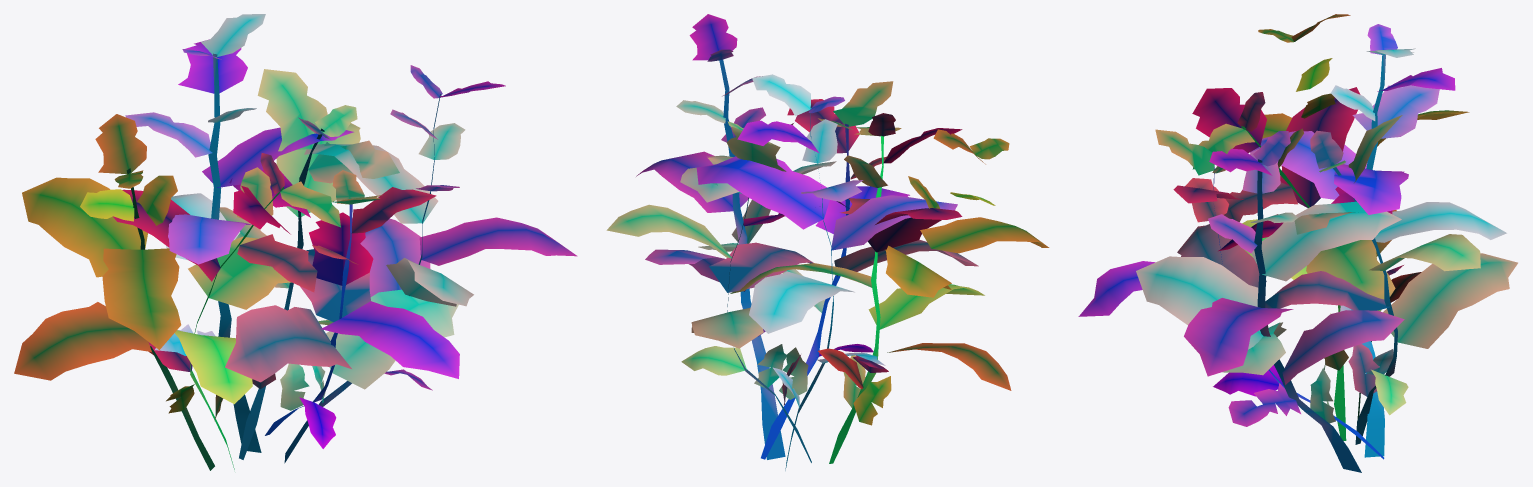
Rendered from Black_Locust_wdvhberja_Mid_wdvhberja_VarD_LOD2.fbx.
3 views of the same model, side by side, from view 1: azimuth 30°, elevation 25°; view 2: azimuth 150°, elevation 25°; view 3: azimuth 270°, elevation 25° (orthographic). The views are drawn at different scales.
Parts seen in each view (by area): view 1: _oz5u_VarD_LOD3; view 2: _oz5u_VarD_LOD3; view 3: _oz5u_VarD_LOD3.
Boxes of the visible parts, x1=… form: _oz5u_VarD_LOD3: x1=14, y1=14, x2=577, y2=470; _oz5u_VarD_LOD3: x1=606, y1=14, x2=1049, y2=470; _oz5u_VarD_LOD3: x1=1078, y1=14, x2=1517, y2=472.
Size of the model in its own units: 56.38 by 47.9 by 46.04.
